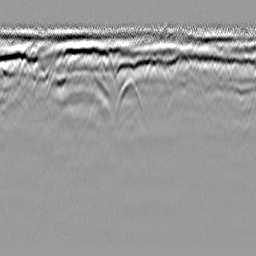cavity: (112, 73, 145, 127)
